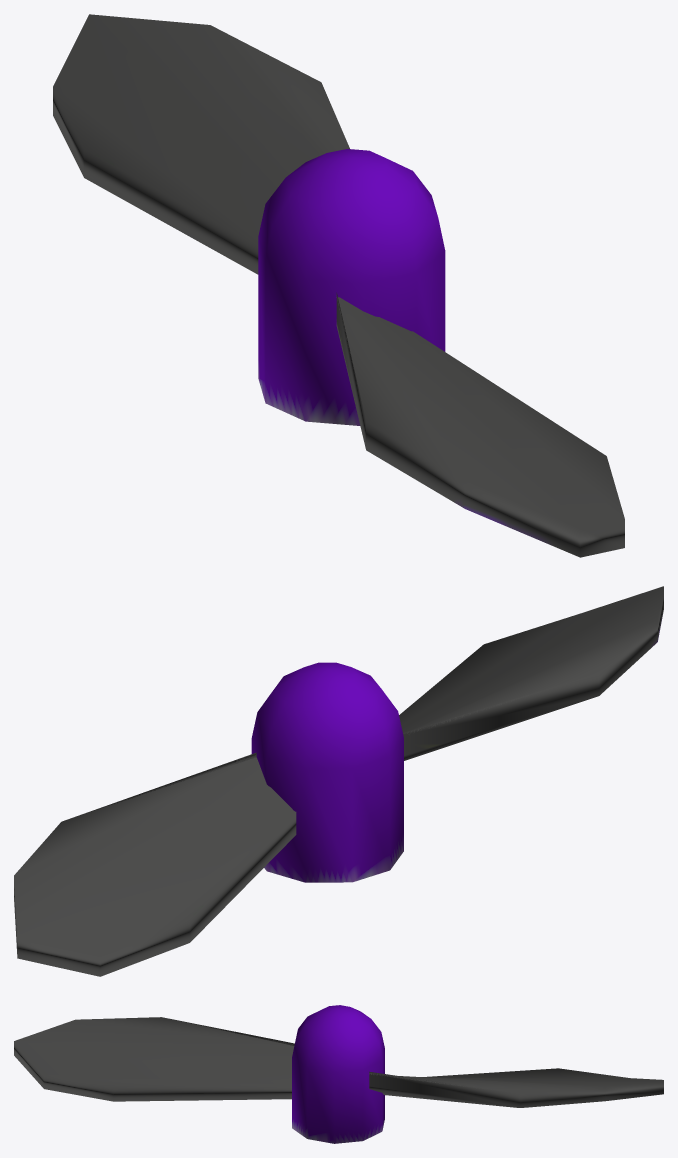
Rendered from SM_Dron_1_SM_D1_Propeller.fbx.
3 renders of one model, top to bottom at view 1: azimuth 30°, elevation 25°; view 2: azimuth 150°, elevation 25°; view 3: azimuth 270°, elevation 25°, orthographic. The views are drawn at different scales.
Visible parts, largest first — view 1: SM_Dron_1_SM_D1_Propeller; view 2: SM_Dron_1_SM_D1_Propeller; view 3: SM_Dron_1_SM_D1_Propeller.
Part boxes in pixels (x1=…): SM_Dron_1_SM_D1_Propeller: x1=53, y1=14, x2=624, y2=557; SM_Dron_1_SM_D1_Propeller: x1=14, y1=586, x2=663, y2=976; SM_Dron_1_SM_D1_Propeller: x1=14, y1=1005, x2=663, y2=1143.
Bounding box in the file's own units: 6.61 × 23.69 × 4.6.
1 material, 1 textured.
